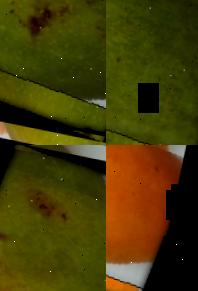Ripe: (106, 145, 190, 291)
Unripe: (0, 145, 106, 291), (0, 0, 106, 142), (106, 0, 198, 145)
